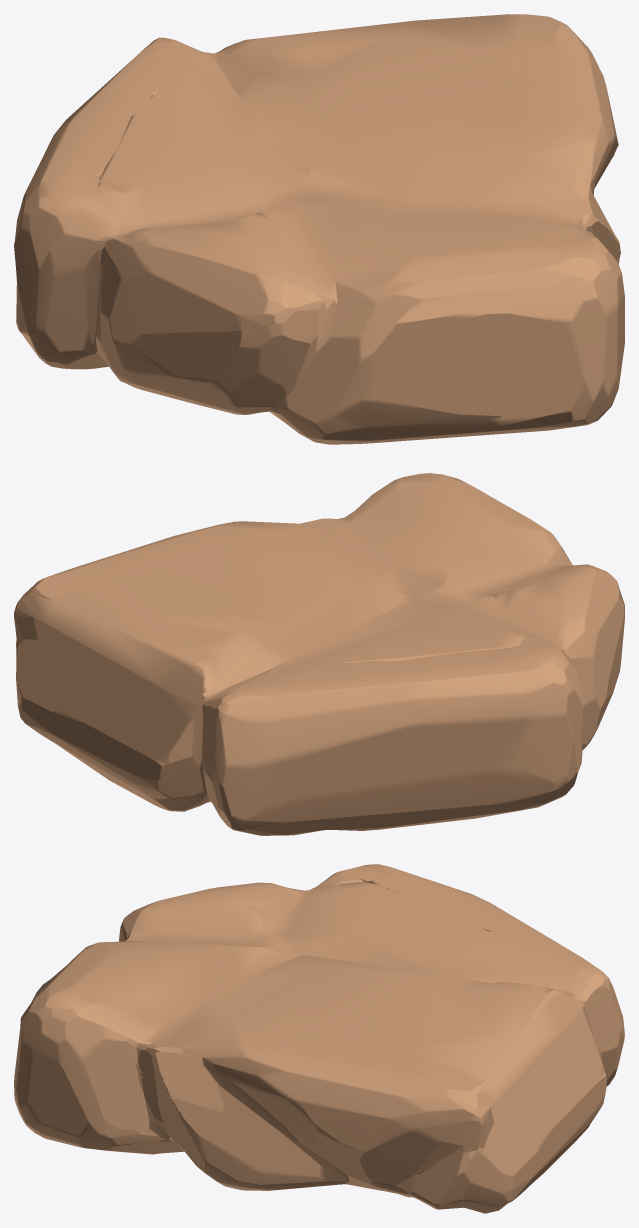
3 renders of one model, top to bottom at view 1: azimuth 30°, elevation 25°; view 2: azimuth 150°, elevation 25°; view 3: azimuth 270°, elevation 25°, orthographic. The views are drawn at different scales.
Parts seen in each view (by area): view 1: Mesh_107_LOD0; view 2: Mesh_107_LOD0; view 3: Mesh_107_LOD0.
Boxes of the visible parts, left/top/right/bottom form: Mesh_107_LOD0: left=14, top=14, right=624, bottom=444; Mesh_107_LOD0: left=14, top=473, right=624, bottom=835; Mesh_107_LOD0: left=14, top=864, right=624, bottom=1213.
Size of what is drawn, in the model's own units: 1457 by 423 by 1531.
